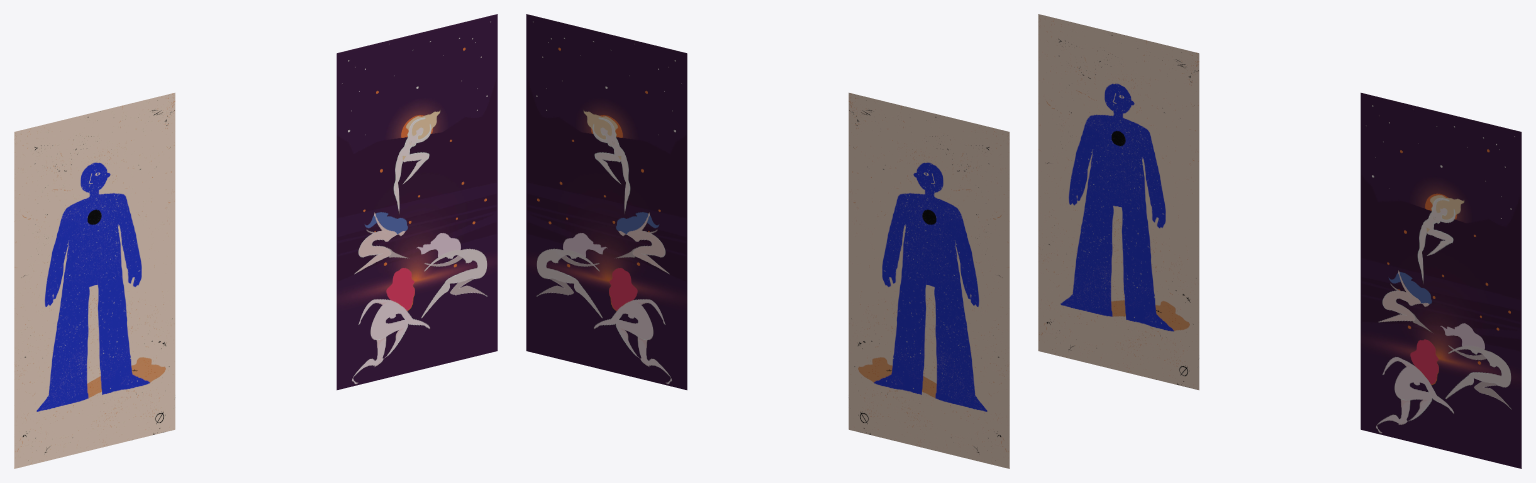
File: xpar-gallery.glb
3 views of the same model, side by side, from view 1: azimuth 30°, elevation 25°; view 2: azimuth 150°, elevation 25°; view 3: azimuth 330°, elevation 25° (orthographic).
Visible parts, largest first — view 1: Poster Cristina, Poster Irina; view 2: Poster Cristina, Poster Irina; view 3: Poster Cristina, Poster Irina.
Part boxes in pixels (bbox=[...]): Poster Cristina: bbox=[336, 14, 497, 389]; Poster Irina: bbox=[14, 93, 175, 468]; Poster Cristina: bbox=[526, 14, 687, 389]; Poster Irina: bbox=[848, 93, 1009, 468]; Poster Cristina: bbox=[1360, 93, 1521, 468]; Poster Irina: bbox=[1038, 14, 1199, 389].
Bounding box in the file's own units: 15 × 10 × 3.55e-15.
Materials: 2 (2 with a texture image).
